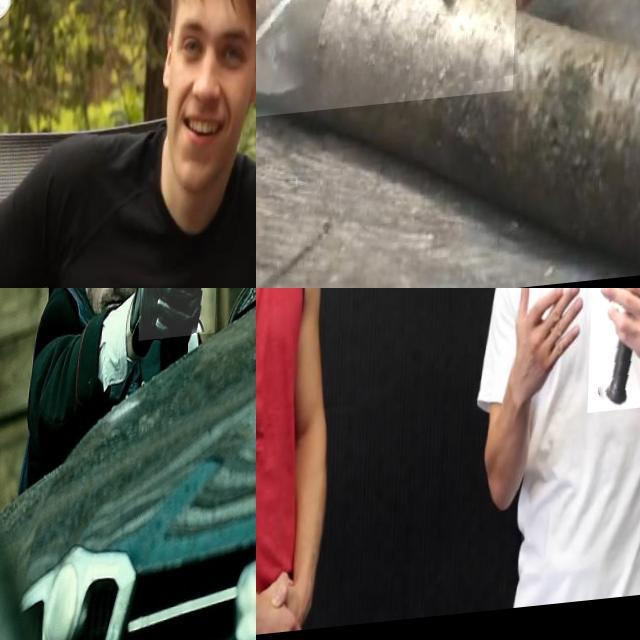-: (256, 0, 525, 170), (590, 288, 640, 422)
gun-knife-thesis - v11 Yolov5 augmented: (140, 288, 221, 377)
